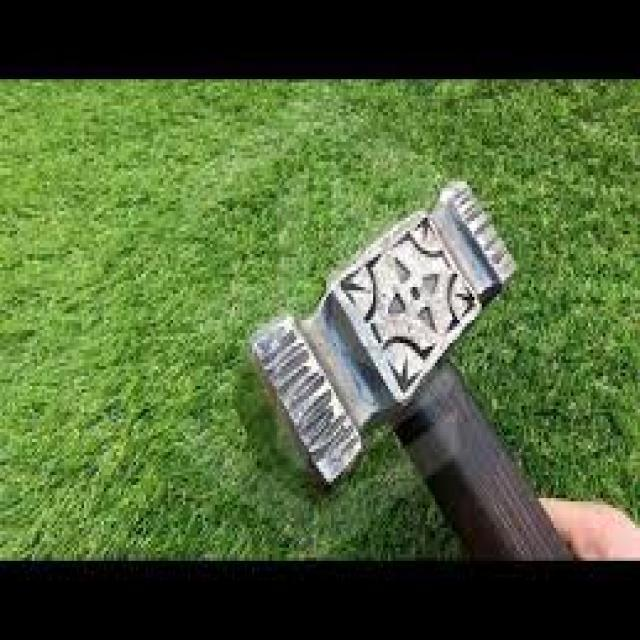hammer: (242, 175, 578, 561)
